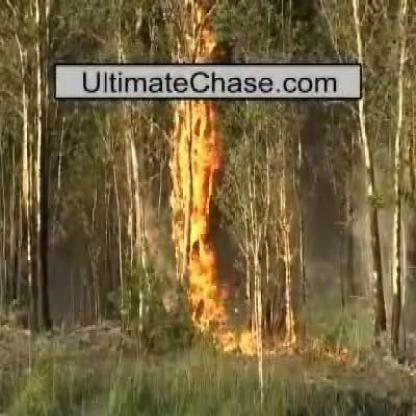foggia-v2-map80-epoch100 - v1 4323: (174, 101, 226, 338), (183, 35, 211, 61)
